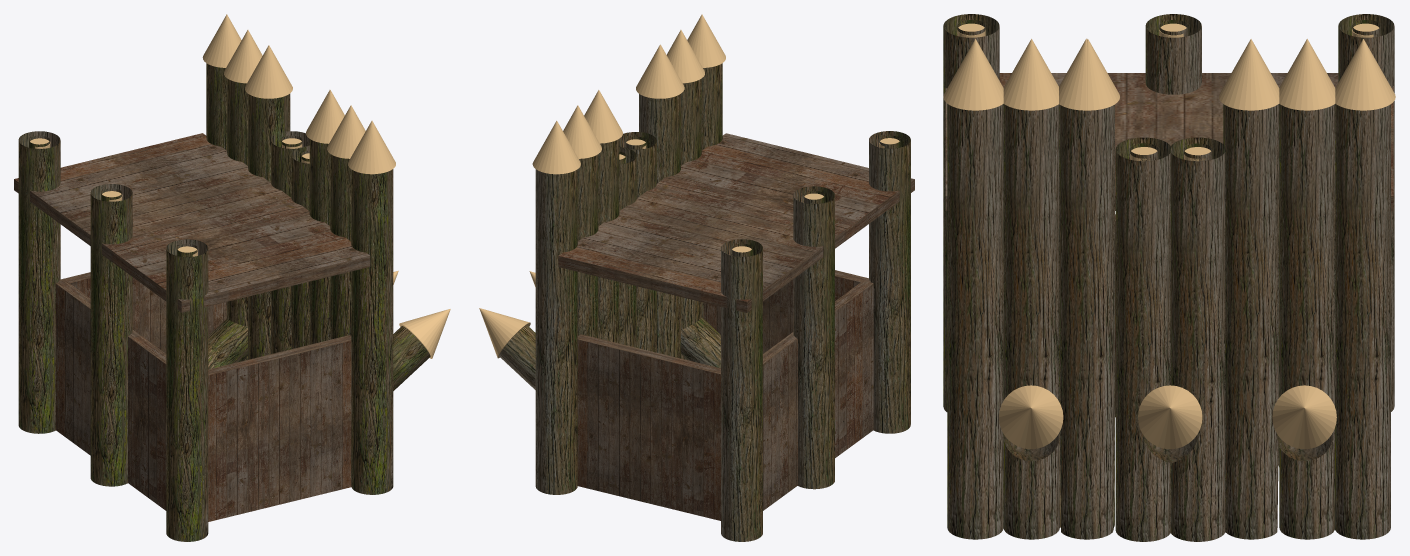
Rendered from PalisadeWall.fbx.
3 renders of one model, left to right at view 1: azimuth 30°, elevation 25°; view 2: azimuth 150°, elevation 25°; view 3: azimuth 270°, elevation 25°, orthographic. The views are drawn at different scales.
Visible parts, largest first — view 1: PalisadeFloor.001, PalisadeFloor.004, PointStick, RoundStick.006, PalisadeFloor.002, RoundStick.014, RoundStick.024, PointStick.005, PointStick.001, PointStick.015, RoundStick.019, PalisadeFloor.006 (+12 smaller); view 2: PalisadeFloor.001, PalisadeFloor.006, PointStick.003, RoundStick.024, PalisadeFloor.002, RoundStick.006, RoundStick.014, PointStick.015, PointStick.004, PointStick.005, RoundStick.018, PalisadeFloor.004 (+12 smaller); view 3: PointStick, PointStick.003, PointStick.015, PointStick.005, PointStick.001, PointStick.004, RoundStick.018, RoundStick.019, PalisadeFloor.001, RoundStick.014, RoundStick.006, RoundStick.024 (+13 smaller).
Boxes of the visible parts, x1,y1,x2,y2 form: PalisadeFloor.001: (14, 133, 370, 312); PalisadeFloor.004: (208, 335, 351, 521); PointStick: (351, 169, 393, 494); RoundStick.006: (166, 239, 208, 541); PalisadeFloor.002: (55, 280, 166, 510); RoundStick.014: (90, 184, 132, 486); RoundStick.024: (18, 131, 60, 433); PointStick.005: (248, 93, 290, 359); PointStick.001: (330, 154, 351, 339); PointStick.015: (309, 139, 330, 344); RoundStick.019: (271, 131, 309, 353); PalisadeFloor.006: (59, 272, 226, 353); PalisadeFloor.001: (558, 133, 914, 312); PalisadeFloor.006: (577, 334, 720, 520); PointStick.003: (535, 169, 577, 494); RoundStick.024: (721, 239, 762, 541); PalisadeFloor.002: (763, 280, 873, 510); RoundStick.006: (869, 131, 910, 433); RoundStick.014: (793, 186, 834, 489); PointStick.015: (639, 94, 680, 358); PointStick.004: (577, 154, 598, 338); PointStick.005: (598, 139, 619, 343); RoundStick.018: (619, 132, 656, 352); PalisadeFloor.004: (703, 270, 870, 353); PointStick: (947, 104, 1003, 539); PointStick.003: (1335, 104, 1390, 539); PointStick.015: (1059, 104, 1114, 539); PointStick.005: (1223, 104, 1279, 539); PointStick.001: (1003, 104, 1059, 539); PointStick.004: (1279, 104, 1335, 539); RoundStick.018: (1115, 137, 1171, 541); RoundStick.019: (1169, 137, 1225, 541); PalisadeFloor.001: (945, 73, 1393, 210); RoundStick.014: (1145, 14, 1201, 94); RoundStick.006: (943, 14, 999, 411); RoundStick.024: (1338, 14, 1394, 411).
Size of the model in its own units: 322 by 372 by 311.
